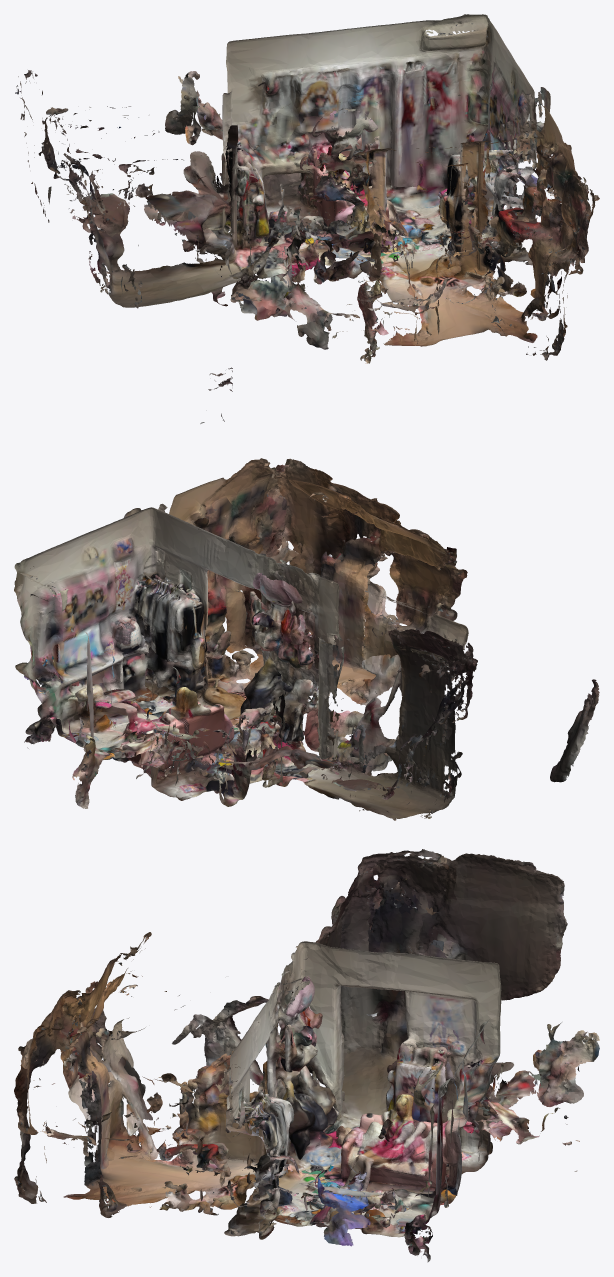
The model's file is SUZUNE WEB.glb.
3 views of the same model, one above another, from view 1: azimuth 30°, elevation 25°; view 2: azimuth 150°, elevation 25°; view 3: azimuth 270°, elevation 25° (orthographic). The views are drawn at different scales.
Visible parts, largest first — view 1: mesh; view 2: mesh; view 3: mesh.
Part boxes in pixels (x1=…): mesh: x1=15, y1=14, x2=599, y2=423; mesh: x1=14, y1=458, x2=599, y2=820; mesh: x1=14, y1=849, x2=599, y2=1262.
Bounding box in the file's own units: 6.77 × 3.16 × 6.92.
1 material, 1 textured.
